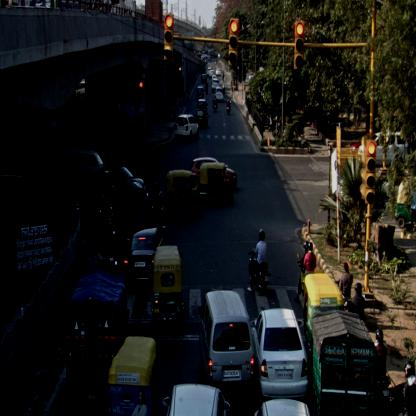car: (200, 288, 256, 388), (250, 306, 308, 398), (124, 226, 166, 286), (158, 384, 232, 415), (90, 164, 144, 202), (65, 150, 105, 183), (174, 115, 198, 142), (196, 108, 210, 128), (196, 84, 206, 98), (216, 87, 223, 103)
motorcycle: (246, 226, 272, 294), (375, 328, 391, 414), (295, 241, 317, 303), (145, 181, 165, 225), (104, 216, 118, 270), (226, 96, 232, 113), (213, 94, 217, 112)
truck: (66, 274, 126, 416), (311, 311, 375, 415)
